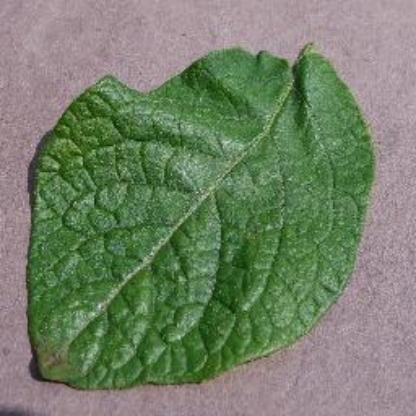Healthy-plant: (25, 38, 377, 392)
